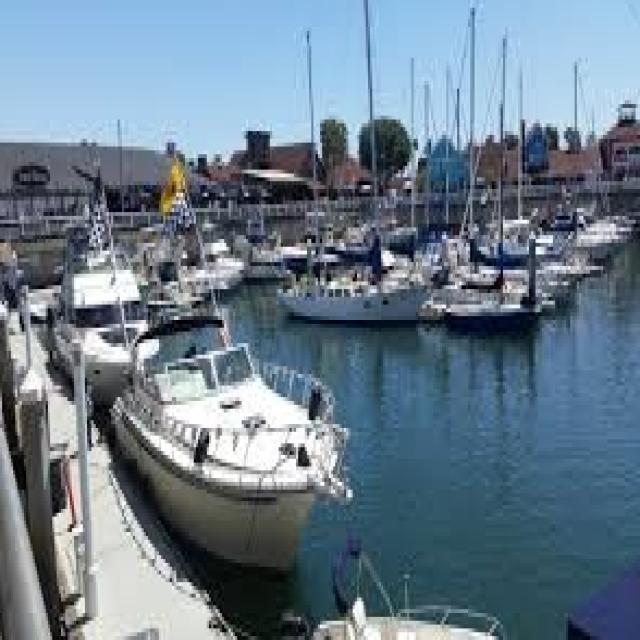houseboat: (120, 320, 386, 553)
